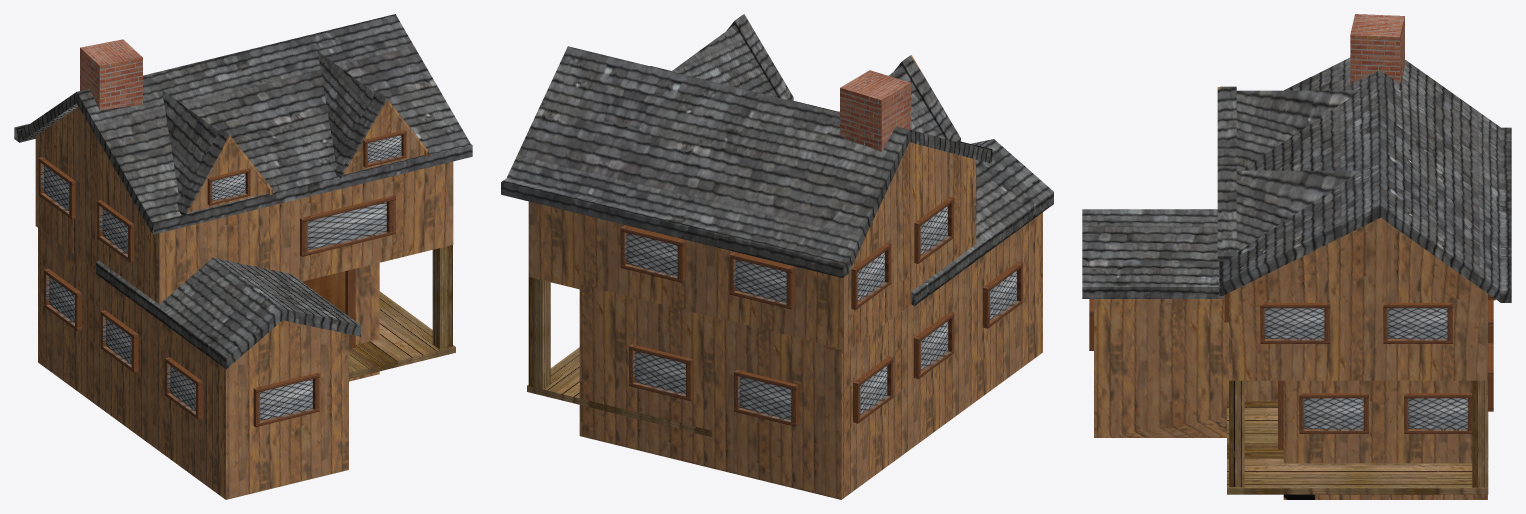
The model's file is House_05_new.fbx.
The picture shows the model from 3 angles, left to right: view 1: azimuth 30°, elevation 25°; view 2: azimuth 150°, elevation 25°; view 3: azimuth 270°, elevation 25°; orthographic projection. The views are drawn at different scales.
Parts seen in each view (by area): view 1: House05_Good:pCube72, pCube182, pCube184, pCube181, pCube192, pCube76, pCube190, pCube189, pCube193, pCube187, pCube188, pCube185 (+1 smaller); view 2: House05_Good:pCube72, pCube187 (×2), pCube188 (×2), pCube190 (×2), pCube189 (×2), pCube181, pCube77, pCube182, pCube193; view 3: House05_Good:pCube72, pCube182, pCube181, pCube189, pCube188, pCube187, pCube190, pCube76, pCube77.
Boxes of the visible parts, <box> form: House05_Good:pCube72: <box>14,14,472,499</box>; pCube182: <box>349,291,455,378</box>; pCube184: <box>300,195,395,256</box>; pCube181: <box>80,39,142,110</box>; pCube192: <box>253,373,319,426</box>; pCube76: <box>432,245,452,349</box>; pCube190: <box>100,310,138,372</box>; pCube189: <box>44,268,81,331</box>; pCube193: <box>165,357,202,419</box>; pCube187: <box>38,157,75,219</box>; pCube188: <box>97,200,134,262</box>; pCube185: <box>363,130,406,167</box>; House05_Good:pCube72: <box>501,14,1053,499</box>; pCube187 (×2): <box>620,225,891,309</box>; pCube188 (×2): <box>729,197,953,309</box>; pCube190 (×2): <box>734,312,954,426</box>; pCube189 (×2): <box>629,344,893,423</box>; pCube181: <box>840,70,911,151</box>; pCube77: <box>528,277,550,389</box>; pCube182: <box>527,347,711,436</box>; pCube193: <box>982,261,1023,328</box>; House05_Good:pCube72: <box>1082,57,1511,499</box>; pCube182: <box>1227,401,1488,494</box>; pCube181: <box>1350,14,1404,83</box>; pCube189: <box>1299,393,1368,433</box>; pCube188: <box>1383,303,1452,343</box>; pCube187: <box>1260,303,1329,343</box>; pCube190: <box>1404,393,1472,433</box>; pCube76: <box>1229,380,1244,487</box>; pCube77: <box>1472,380,1487,487</box>.
Bounding box in the file's own units: 98.74 × 102 × 110.
